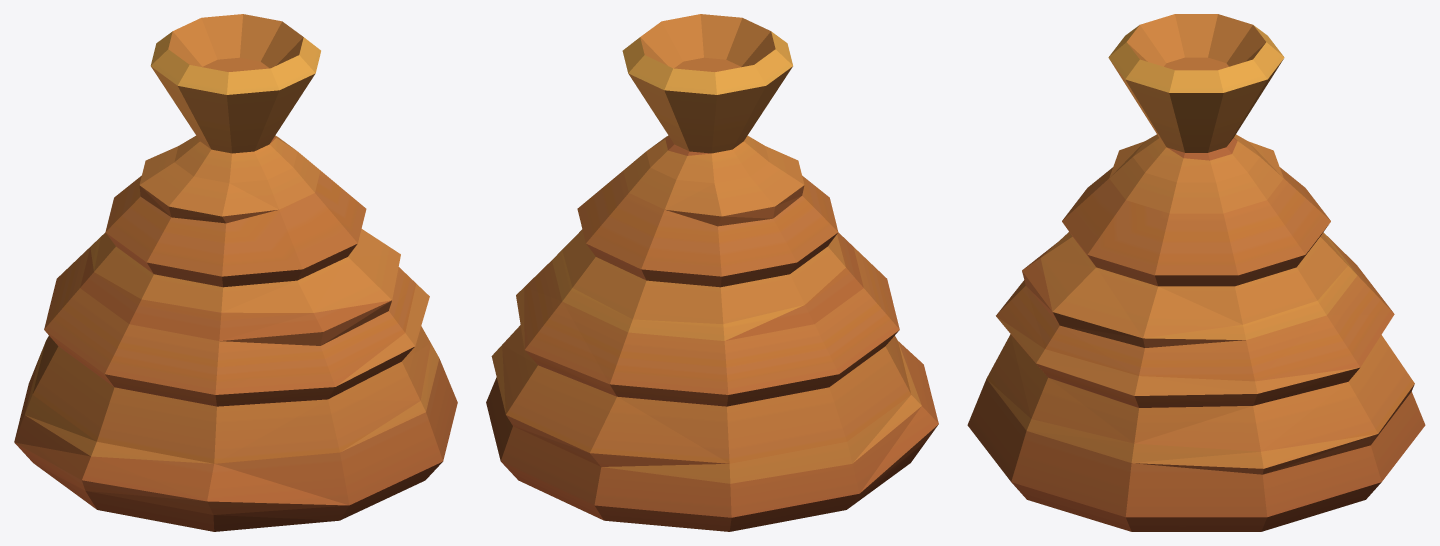
File: hay_2.glb
3 renders of one model, left to right at view 1: azimuth 30°, elevation 25°; view 2: azimuth 150°, elevation 25°; view 3: azimuth 270°, elevation 25°, orthographic.
Visible parts, largest first — view 1: hay_2; view 2: hay_2; view 3: hay_2.
Part boxes in pixels (<box>): hay_2: <box>14,14,457,531</box>; hay_2: <box>486,14,938,531</box>; hay_2: <box>967,14,1425,531</box>.
Size of the model in its own units: 1.26 by 1.28 by 1.31.
Materials: 1 (1 with a texture image).
